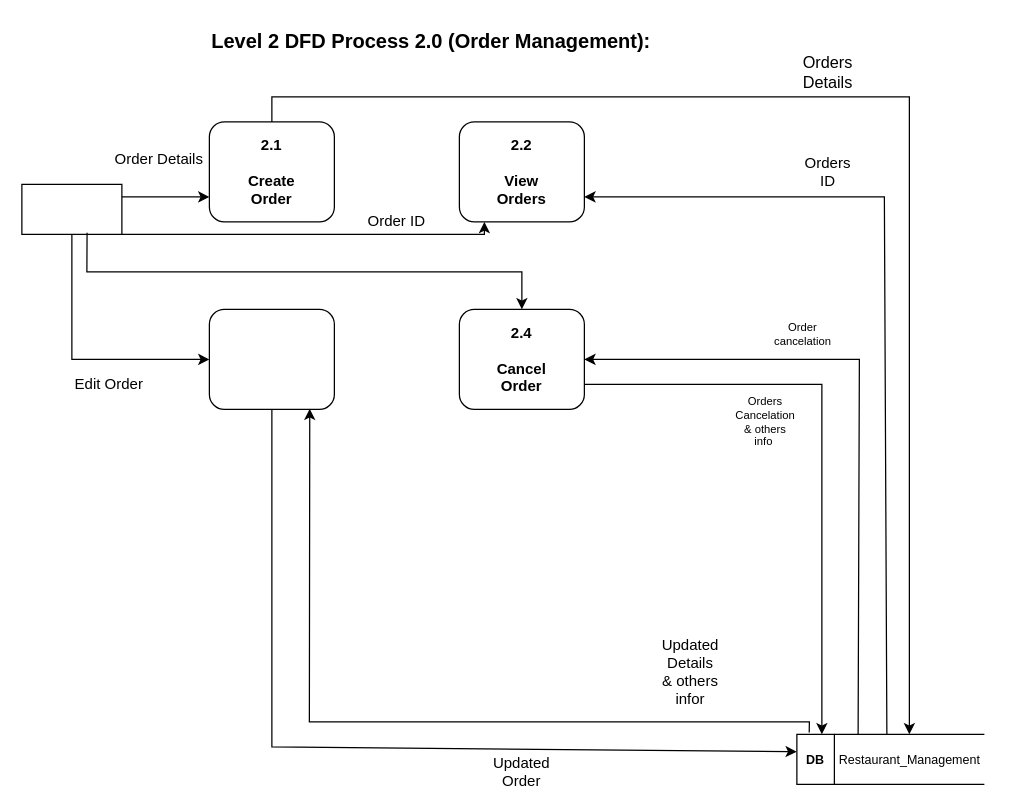
This 1019x811 diagram has some shape labels left out. The centre of each missing label's shape, as x and y in pixels:
2.3 Update Order Status: (271,358)
Admin: (71,208)
